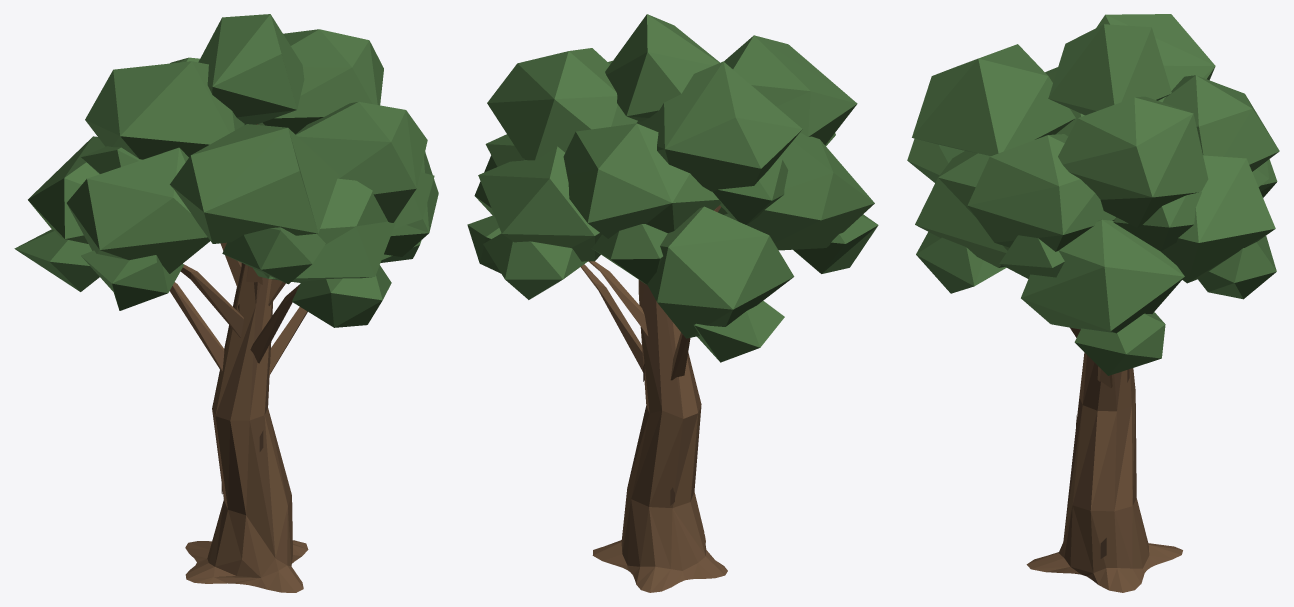
File: oak_summer.glb
3 renders of one model, left to right at view 1: azimuth 30°, elevation 25°; view 2: azimuth 150°, elevation 25°; view 3: azimuth 270°, elevation 25°, orthographic.
Visible parts, largest first — view 1: leaves, branches; view 2: leaves, branches; view 3: leaves, branches.
Boxes of the visible parts, <box> form: leaves: <box>14,14,438,327</box>; branches: <box>170,124,308,592</box>; leaves: <box>467,14,878,362</box>; branches: <box>581,205,727,592</box>; leaves: <box>907,14,1279,375</box>; branches: <box>1026,327,1182,592</box>.
Bounding box in the file's own units: 3.42 × 4.8 × 2.97.
